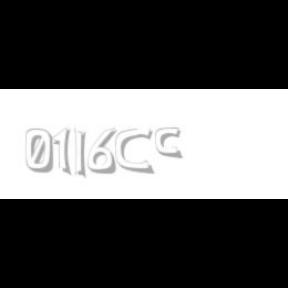0: (25, 128, 56, 174)
1: (50, 128, 72, 176)
6: (88, 128, 116, 176)
C: (116, 128, 152, 174)
c: (154, 128, 184, 160)
l: (74, 128, 90, 180)
